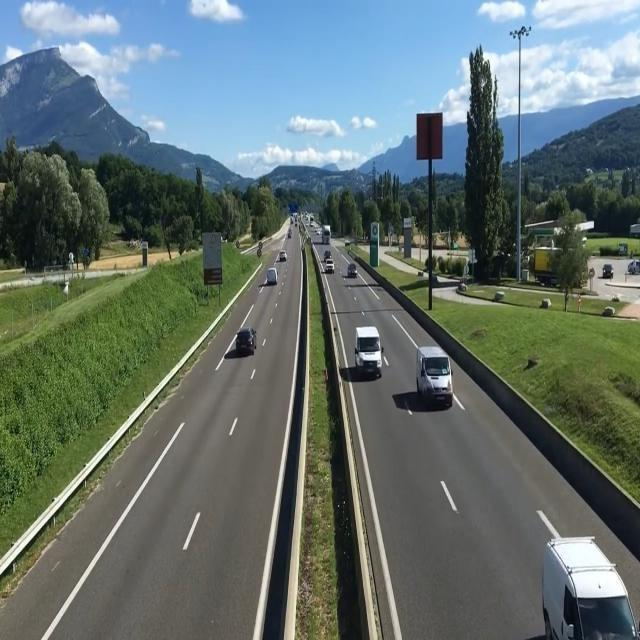Car: (235, 327, 258, 356), (346, 263, 358, 278), (325, 258, 335, 274), (278, 248, 287, 262)
Van: (542, 534, 634, 640), (416, 346, 456, 404), (353, 326, 384, 378), (267, 267, 279, 285)
